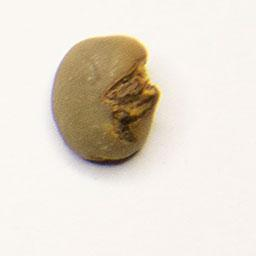defect: (45, 29, 163, 167)
